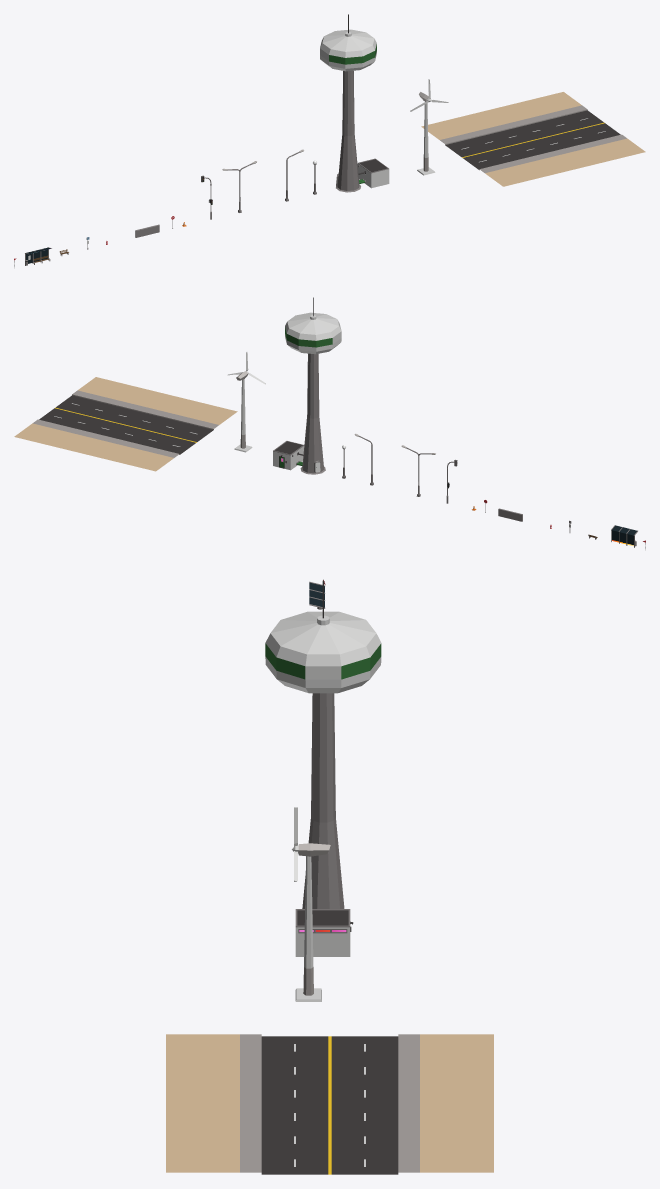
Rendered from street-props.glb.
3 views of the same model, one above another, from view 1: azimuth 30°, elevation 25°; view 2: azimuth 150°, elevation 25°; view 3: azimuth 270°, elevation 25° (orthographic). The views are drawn at different scales.
Parts seen in each view (by area): view 1: mainroad-straight, water-tower-big, windmill-base; view 2: mainroad-straight, water-tower-big, windmill-base, bus-stop; view 3: mainroad-straight, water-tower-big, windmill-base.
Boxes of the visible parts, <box> form: mainroad-straight: <box>421,92,645,186</box>; water-tower-big: <box>320,14,389,192</box>; windmill-base: <box>417,92,435,175</box>; mainroad-straight: <box>14,377,237,471</box>; water-tower-big: <box>273,297,341,474</box>; windmill-base: <box>234,371,252,452</box>; bus-stop: <box>611,525,637,547</box>; mainroad-straight: <box>166,1034,493,1174</box>; water-tower-big: <box>265,580,381,956</box>; windmill-base: <box>295,843,330,1001</box>.
Bounding box in the file's own units: 125 × 34.67 × 30.
1 material, 1 textured.
